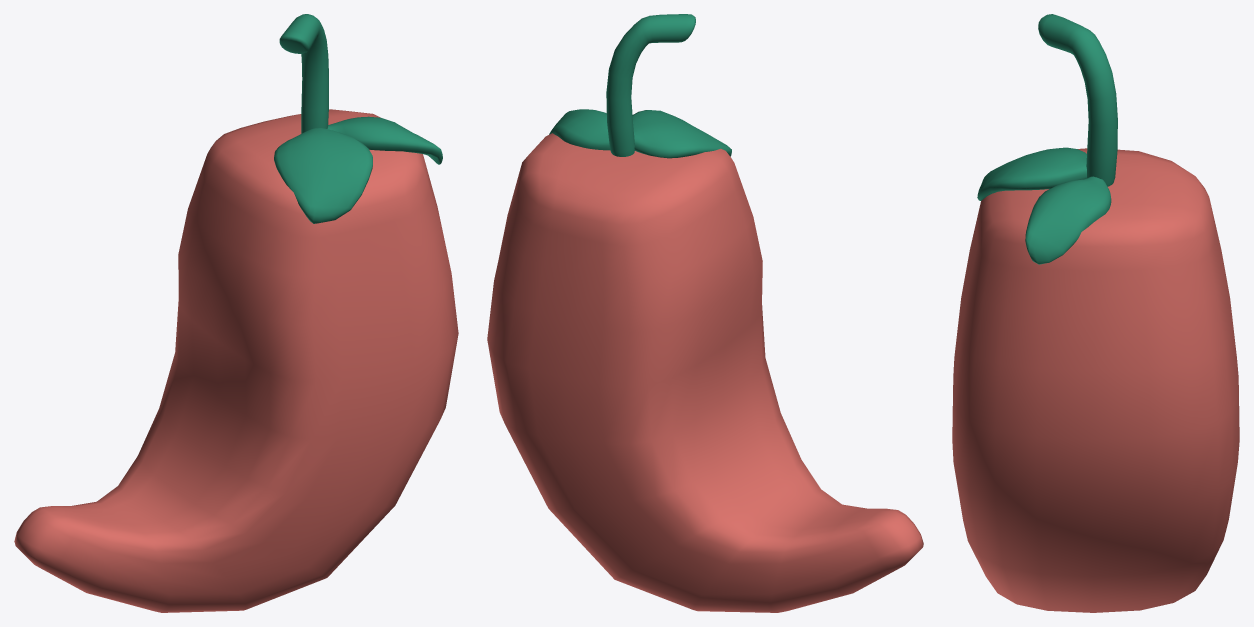
The model's file is spice.glb.
The picture shows the model from 3 angles, left to right: view 1: azimuth 30°, elevation 25°; view 2: azimuth 150°, elevation 25°; view 3: azimuth 270°, elevation 25°; orthographic projection. The views are drawn at different scales.
Parts seen in each view (by area): view 1: hot pepper, leave, rop, leave-2; view 2: hot pepper, rop, leave, leave-2; view 3: hot pepper, rop, leave-2, leave.
Part boxes in pixels (<box>): hot pepper: <box>14,109,458,612</box>; leave: <box>274,128,372,223</box>; rop: <box>279,14,328,133</box>; leave-2: <box>327,116,442,164</box>; hot pepper: <box>487,133,923,612</box>; rop: <box>606,14,695,156</box>; leave: <box>632,110,731,158</box>; leave-2: <box>549,109,609,150</box>; hot pepper: <box>952,148,1239,612</box>; rop: <box>1038,14,1117,186</box>; leave-2: <box>1025,176,1111,264</box>; leave: <box>977,147,1086,200</box>.
Bounding box in the file's own units: 0.6668 × 0.8742 × 0.3726.
